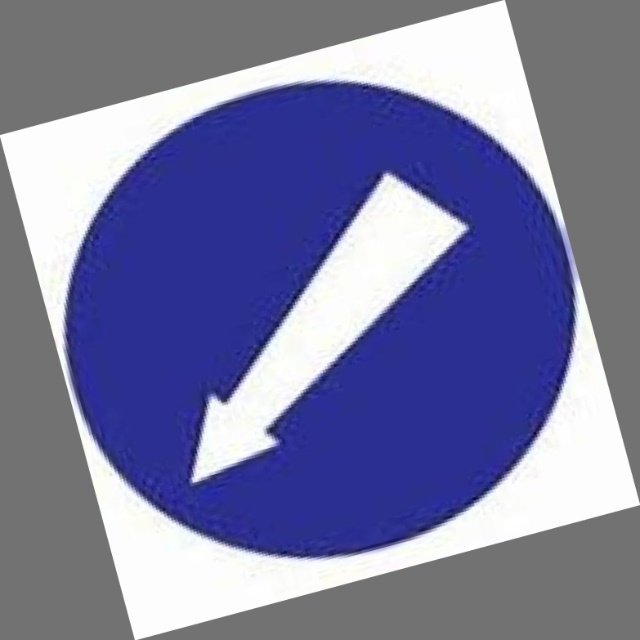R.301e: (7, 17, 632, 618)
